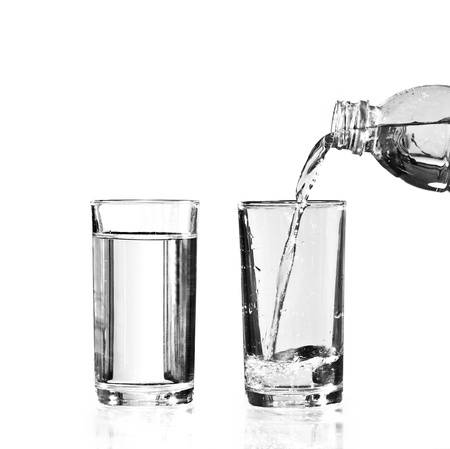glass of water: (85, 189, 202, 411), (236, 187, 351, 411)
